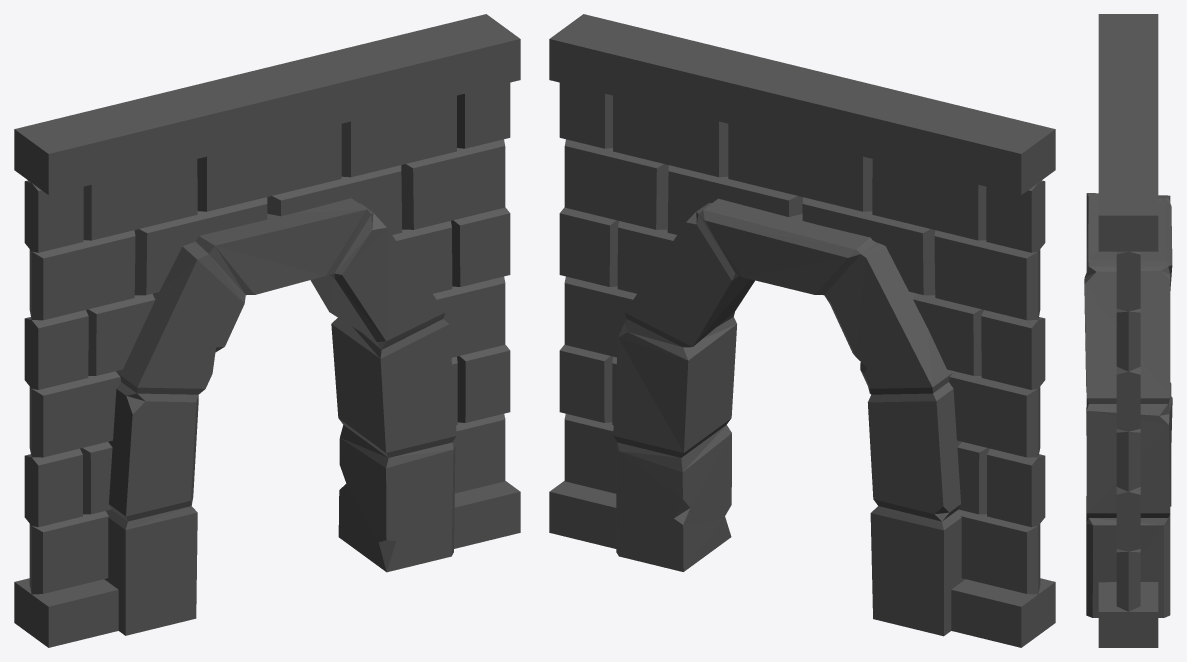
File: Doorway_03.fbx
3 renders of one model, left to right at view 1: azimuth 30°, elevation 25°; view 2: azimuth 150°, elevation 25°; view 3: azimuth 270°, elevation 25°, orthographic. The views are drawn at different scales.
Parts seen in each view (by area): view 1: Doorway.002; view 2: Doorway.002; view 3: Doorway.002.
Boxes of the visible parts, box(x1,y1,x2,y2) form: Doorway.002: box(14, 14, 520, 647); Doorway.002: box(549, 14, 1055, 647); Doorway.002: box(1084, 14, 1172, 647).
Size of the model in its own units: 400 by 400 by 74.12.
